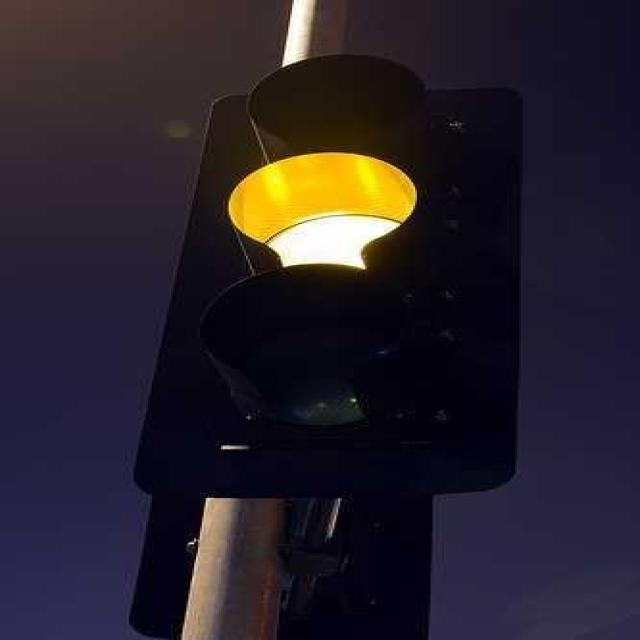Traffic Light -Yellow-: (125, 42, 546, 506)
